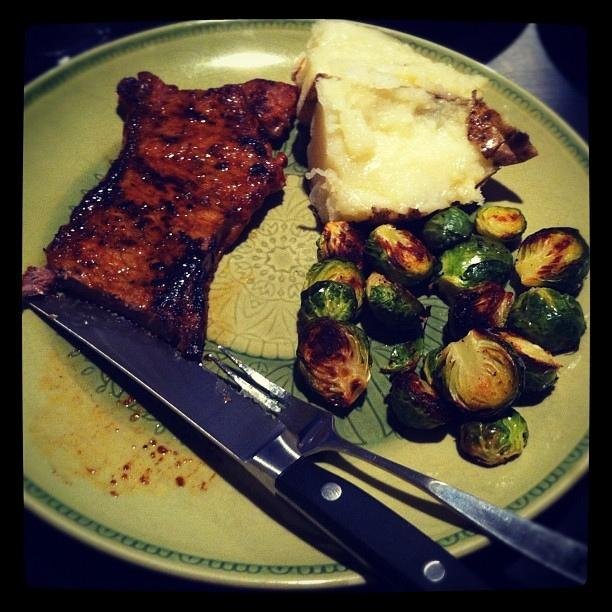brussels sprouts: (426, 330, 528, 418), (297, 317, 373, 408), (428, 237, 513, 306), (363, 224, 444, 294), (489, 328, 564, 403), (507, 286, 587, 355), (516, 227, 590, 295), (460, 406, 529, 466), (448, 280, 514, 342), (301, 258, 366, 320), (366, 271, 429, 333), (391, 373, 448, 428), (316, 220, 368, 276), (416, 207, 473, 253), (299, 280, 358, 323), (474, 206, 526, 243)
potato: (291, 20, 539, 224)
